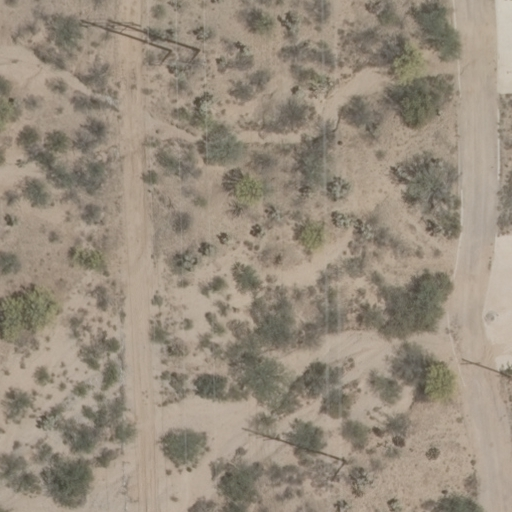DT: (142, 44, 207, 82), (326, 455, 356, 487)
